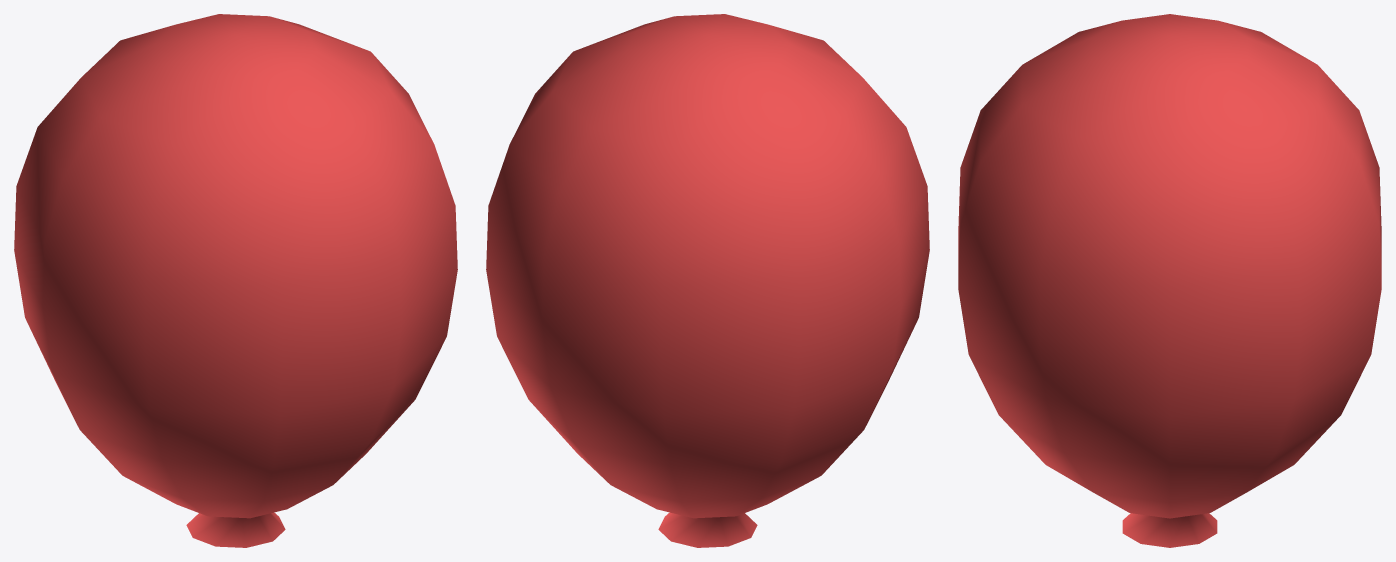
Rendered from 3D_BalloonMesh.fbx.
The picture shows the model from 3 angles, left to right: view 1: azimuth 30°, elevation 25°; view 2: azimuth 150°, elevation 25°; view 3: azimuth 270°, elevation 25°; orthographic projection.
Visible parts, largest first — view 1: Balloon; view 2: Balloon; view 3: Balloon.
Part boxes in pixels (x1=…): Balloon: x1=14, y1=14, x2=457, y2=547; Balloon: x1=486, y1=14, x2=929, y2=547; Balloon: x1=958, y1=14, x2=1381, y2=547.
Bounding box in the file's own units: 168 × 204 × 159.
